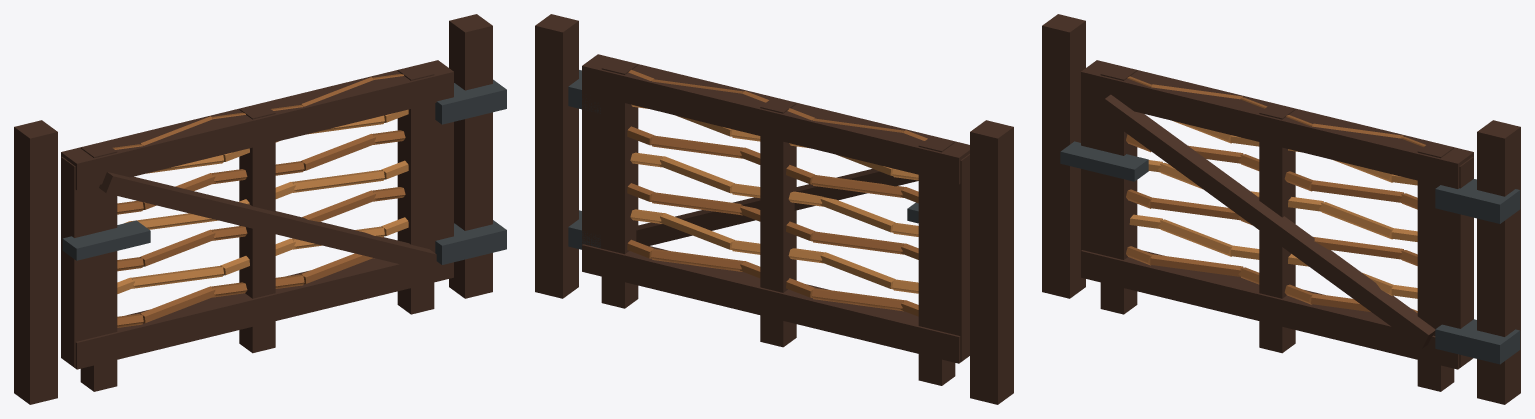
File: 337_wattle_wicket_gate.fbx
3 views of the same model, side by side, from view 1: azimuth 30°, elevation 25°; view 2: azimuth 150°, elevation 25°; view 3: azimuth 330°, elevation 25° (orthographic).
Visible parts, largest first — view 1: 337_wattle_wicket_gate; view 2: 337_wattle_wicket_gate; view 3: 337_wattle_wicket_gate.
Boxes of the visible parts, <box> form: 337_wattle_wicket_gate: <box>14,14,506,404</box>; 337_wattle_wicket_gate: <box>535,14,1013,404</box>; 337_wattle_wicket_gate: <box>1042,14,1520,404</box>.
Size of the model in its own units: 2.02 by 1.1 by 0.225.
1 material, 1 textured.
